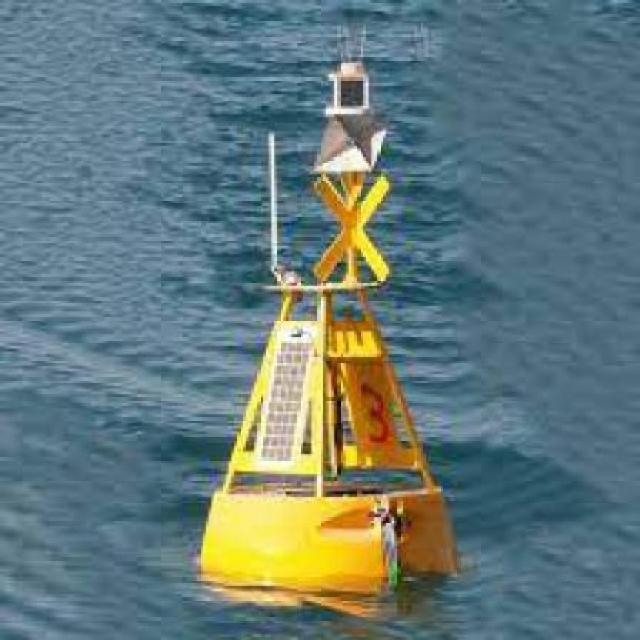buoy: (172, 15, 484, 604)
